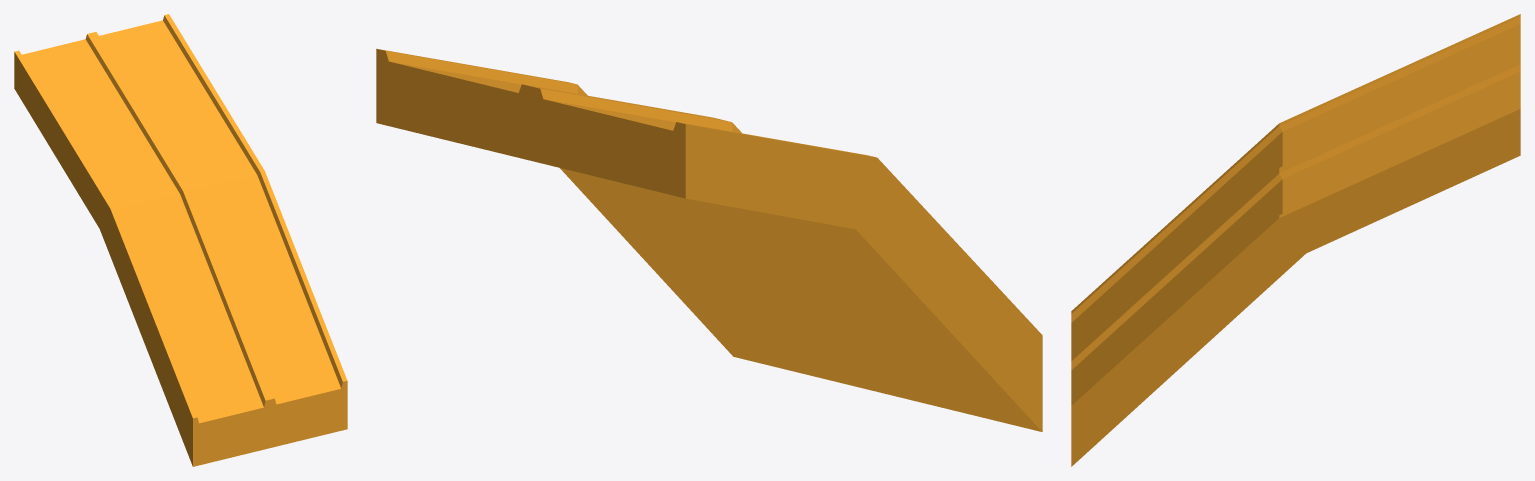
The model's file is SM_Roof_Metal_Regular_Moderate_1x2m.fbx.
3 views of the same model, side by side, from view 1: azimuth 30°, elevation 25°; view 2: azimuth 150°, elevation 25°; view 3: azimuth 270°, elevation 25° (orthographic). The views are drawn at different scales.
Visible parts, largest first — view 1: roof-metal-regular-moderate-1x2m; view 2: roof-metal-regular-moderate-1x2m; view 3: roof-metal-regular-moderate-1x2m.
Part boxes in pixels (x1=…): roof-metal-regular-moderate-1x2m: x1=14, y1=14, x2=347, y2=466; roof-metal-regular-moderate-1x2m: x1=376, y1=48, x2=1042, y2=431; roof-metal-regular-moderate-1x2m: x1=1071, y1=14, x2=1520, y2=466.
Bounding box in the file's own units: 1 × 1.76 × 2.
